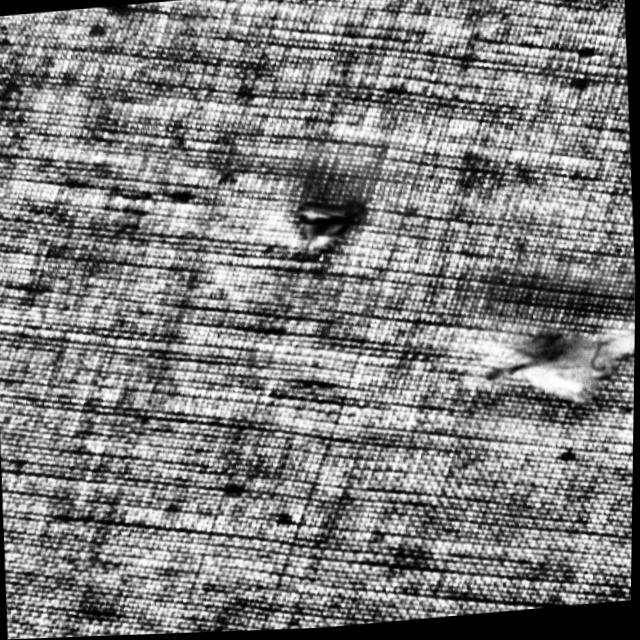Hole: (250, 178, 394, 258), (500, 334, 622, 417)
